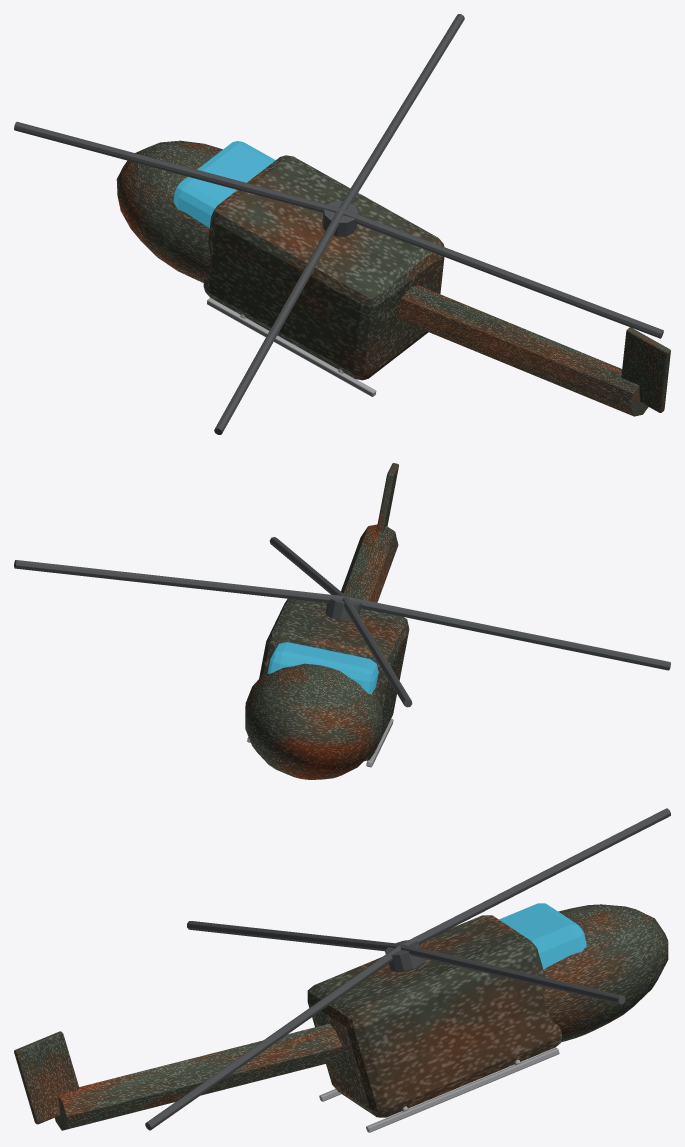
The model's file is heli_wreck.glb.
3 renders of one model, top to bottom at view 1: azimuth 30°, elevation 25°; view 2: azimuth 150°, elevation 25°; view 3: azimuth 270°, elevation 25°, orthographic. The views are drawn at different scales.
Visible parts, largest first — view 1: Cabin.001, TailBoom, Nose, CockpitGlass, RotorBlade_3, RotorBlade_1, TailFin, RotorBlade_2, RotorBlade_0, Skid_-1, RotorHub; view 2: Nose, Cabin.001, RotorBlade_0, RotorBlade_2, TailBoom, CockpitGlass, RotorBlade_1, RotorBlade_3, TailFin, RotorHub; view 3: Cabin.001, Nose, TailBoom, TailFin, CockpitGlass, RotorBlade_3, RotorBlade_1, RotorBlade_0, RotorBlade_2, Skid_1, RotorHub.
Boxes of the visible parts, <box> form: Cabin.001: <box>203,155,444,380</box>; TailBoom: <box>397,285,648,416</box>; Nose: <box>116,140,222,282</box>; CockpitGlass: <box>173,141,275,228</box>; RotorBlade_3: <box>341,209,663,338</box>; RotorBlade_1: <box>14,121,340,212</box>; TailFin: <box>621,327,670,412</box>; RotorBlade_2: <box>214,209,342,434</box>; RotorBlade_0: <box>339,14,464,209</box>; Skid_-1: <box>207,298,376,396</box>; RotorHub: <box>322,201,357,236</box>; Nose: <box>245,663,382,779</box>; Cabin.001: <box>259,599,409,761</box>; RotorBlade_0: <box>14,560,345,603</box>; RotorBlade_2: <box>347,596,670,670</box>; TailBoom: <box>341,524,398,602</box>; CockpitGlass: <box>267,642,378,694</box>; RotorBlade_1: <box>342,596,412,707</box>; RotorBlade_3: <box>269,537,346,596</box>; TailFin: <box>376,463,398,532</box>; RotorHub: <box>325,595,361,621</box>; Cabin.001: <box>307,915,561,1117</box>; Nose: <box>543,904,668,1041</box>; TailBoom: <box>55,1023,342,1130</box>; TailFin: <box>14,1031,79,1124</box>; CockpitGlass: <box>499,903,586,969</box>; RotorBlade_3: <box>145,944,400,1130</box>; RotorBlade_1: <box>401,808,670,945</box>; RotorBlade_0: <box>400,944,625,1004</box>; RotorBlade_2: <box>187,921,400,951</box>; Skid_1: <box>366,1047,559,1132</box>; RotorHub: <box>385,940,423,971</box>.
Bounding box in the file's own units: 8.56 × 3.88 × 10.41.
Materials: 4 (1 with a texture image).
